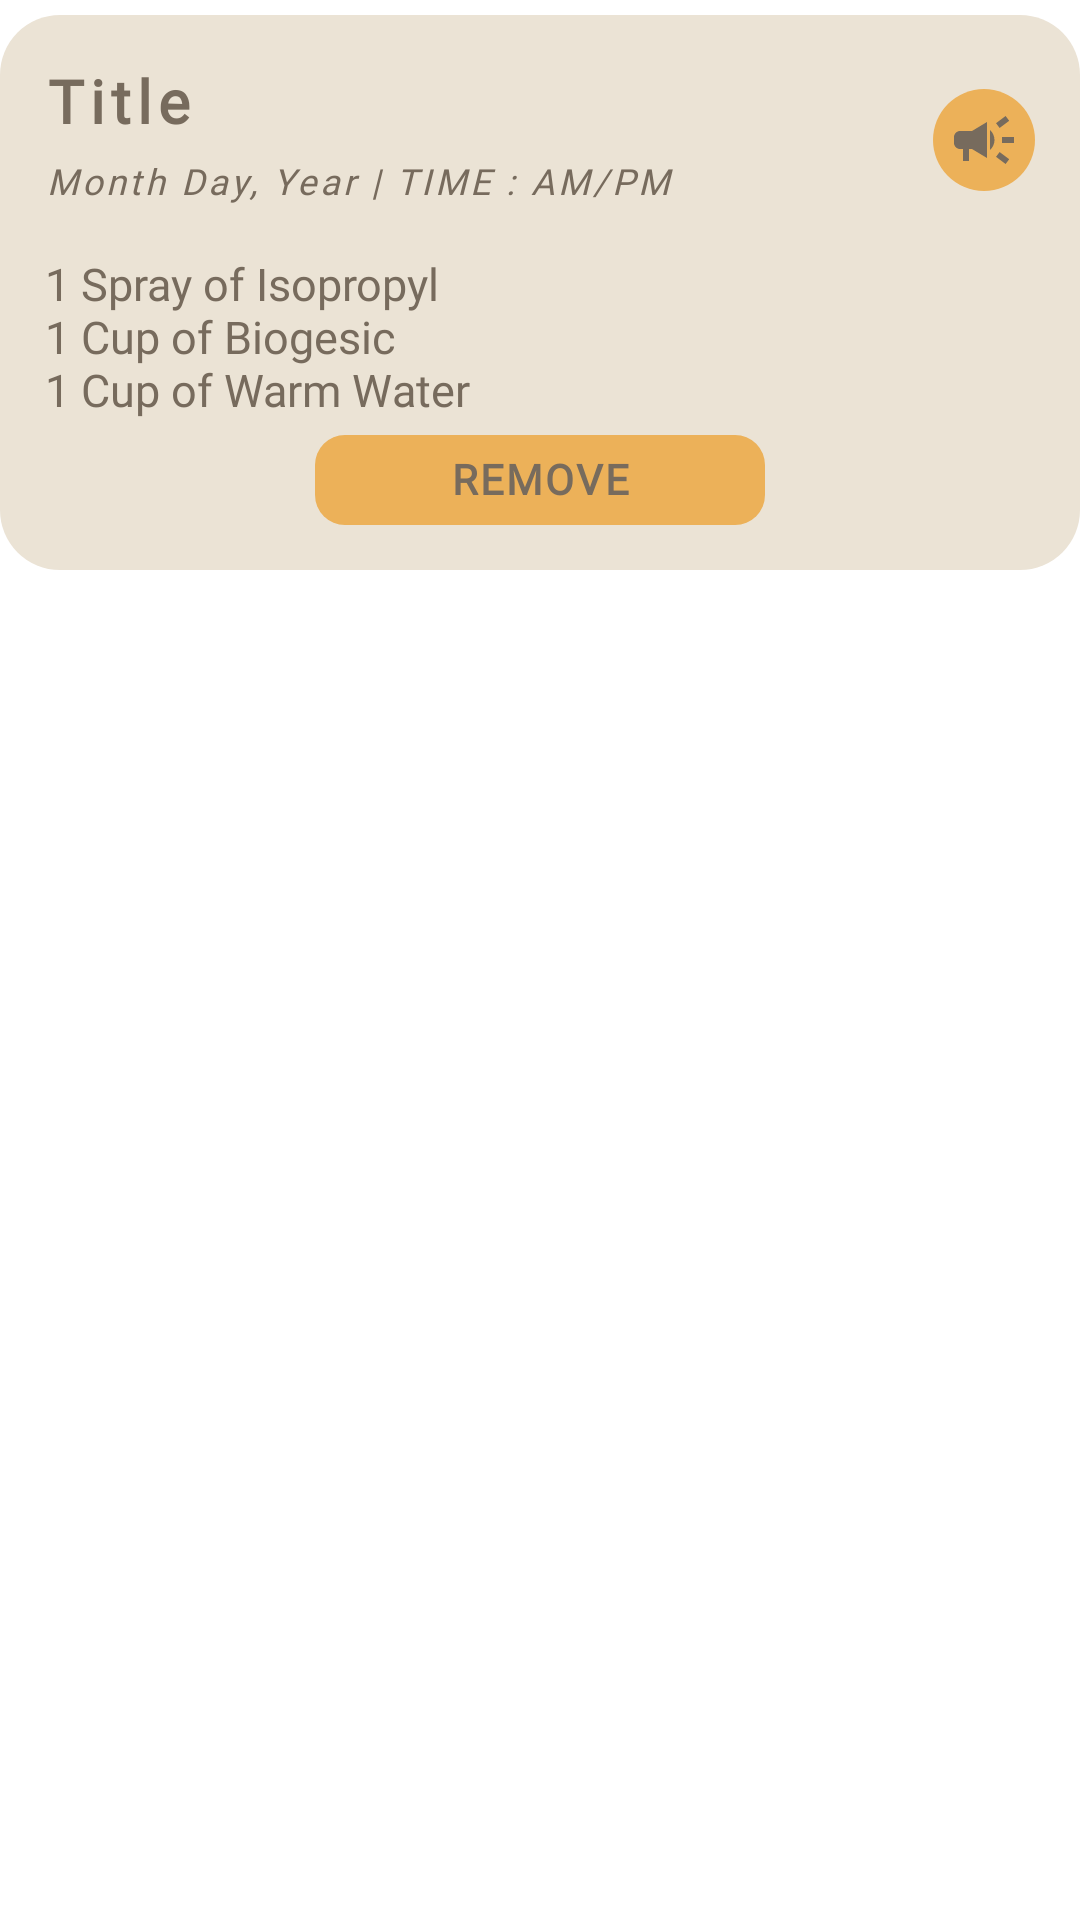

Named icons in this screenshot (1080w x 1920h) and their bounding boxes, (x1, y1, x2, y2):
megaphone: (933, 89, 1035, 191)
